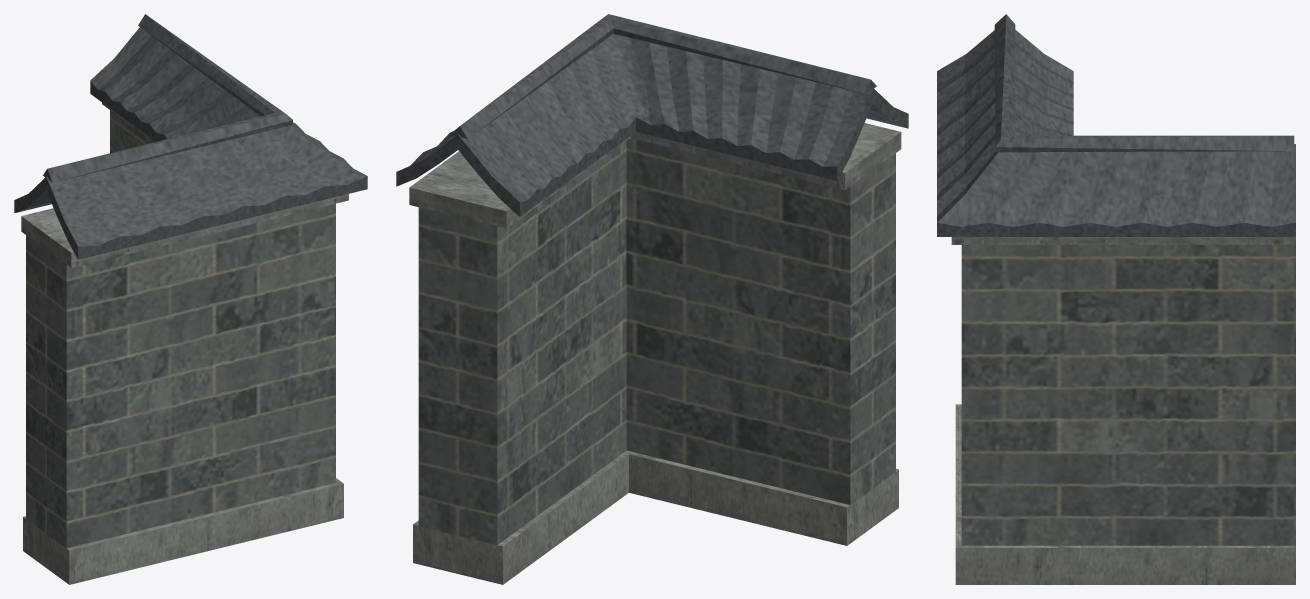
File: WallCorner_LOD2.fbx
The picture shows the model from 3 angles, left to right: view 1: azimuth 30°, elevation 25°; view 2: azimuth 150°, elevation 25°; view 3: azimuth 270°, elevation 25°; orthographic projection. The views are drawn at different scales.
Parts seen in each view (by area): view 1: WallCorner.001; view 2: WallCorner.001; view 3: WallCorner.001.
Boxes of the visible parts, x1,y1,x2,y2 form: WallCorner.001: (14,14,367,584); WallCorner.001: (396,14,908,584); WallCorner.001: (937,14,1295,584).
Bounding box in the file's own units: 1.24 × 1.62 × 1.24.
1 material, 1 textured.
